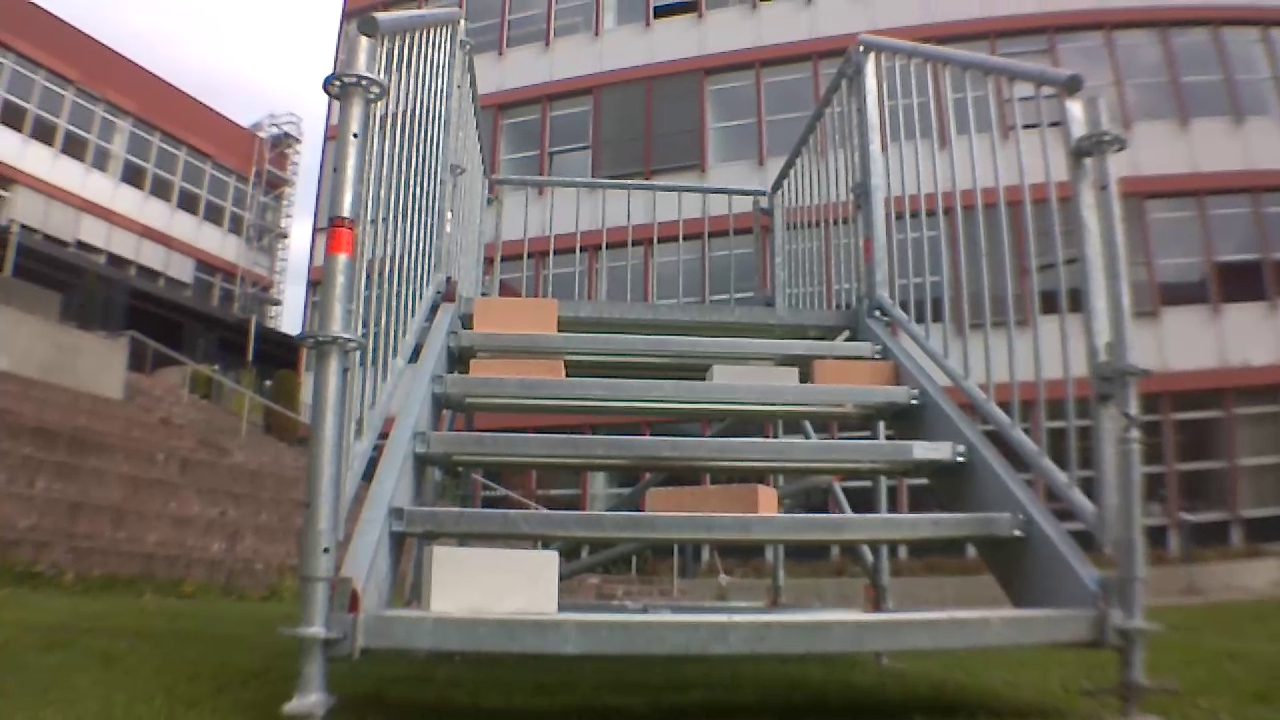brick: (424, 546, 560, 610), (646, 484, 775, 514), (470, 299, 558, 331), (467, 355, 568, 379), (804, 362, 895, 384), (697, 364, 802, 381)
edge: (359, 609, 1110, 657), (391, 512, 1030, 539), (409, 435, 974, 463), (427, 375, 921, 405), (444, 329, 897, 348), (455, 304, 854, 320)
stairs: (292, 2, 1152, 702)
steps: (353, 307, 1089, 653)
